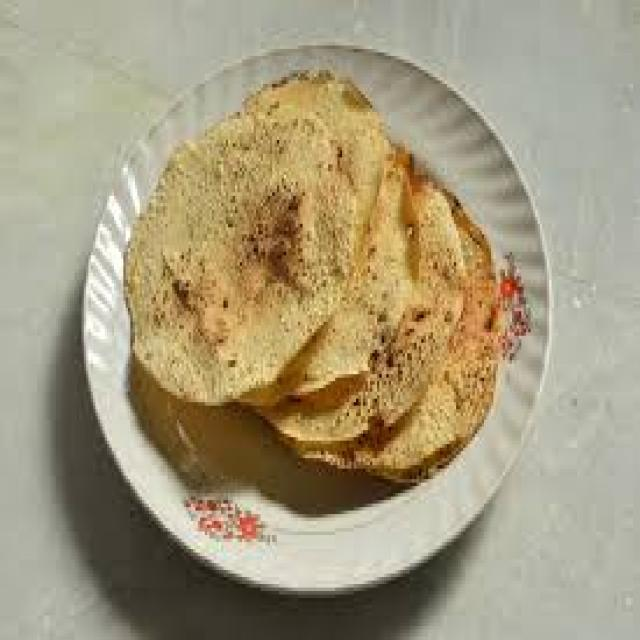papad: (122, 110, 361, 408), (330, 198, 506, 482), (281, 179, 468, 436), (264, 163, 416, 400), (234, 72, 388, 292)
